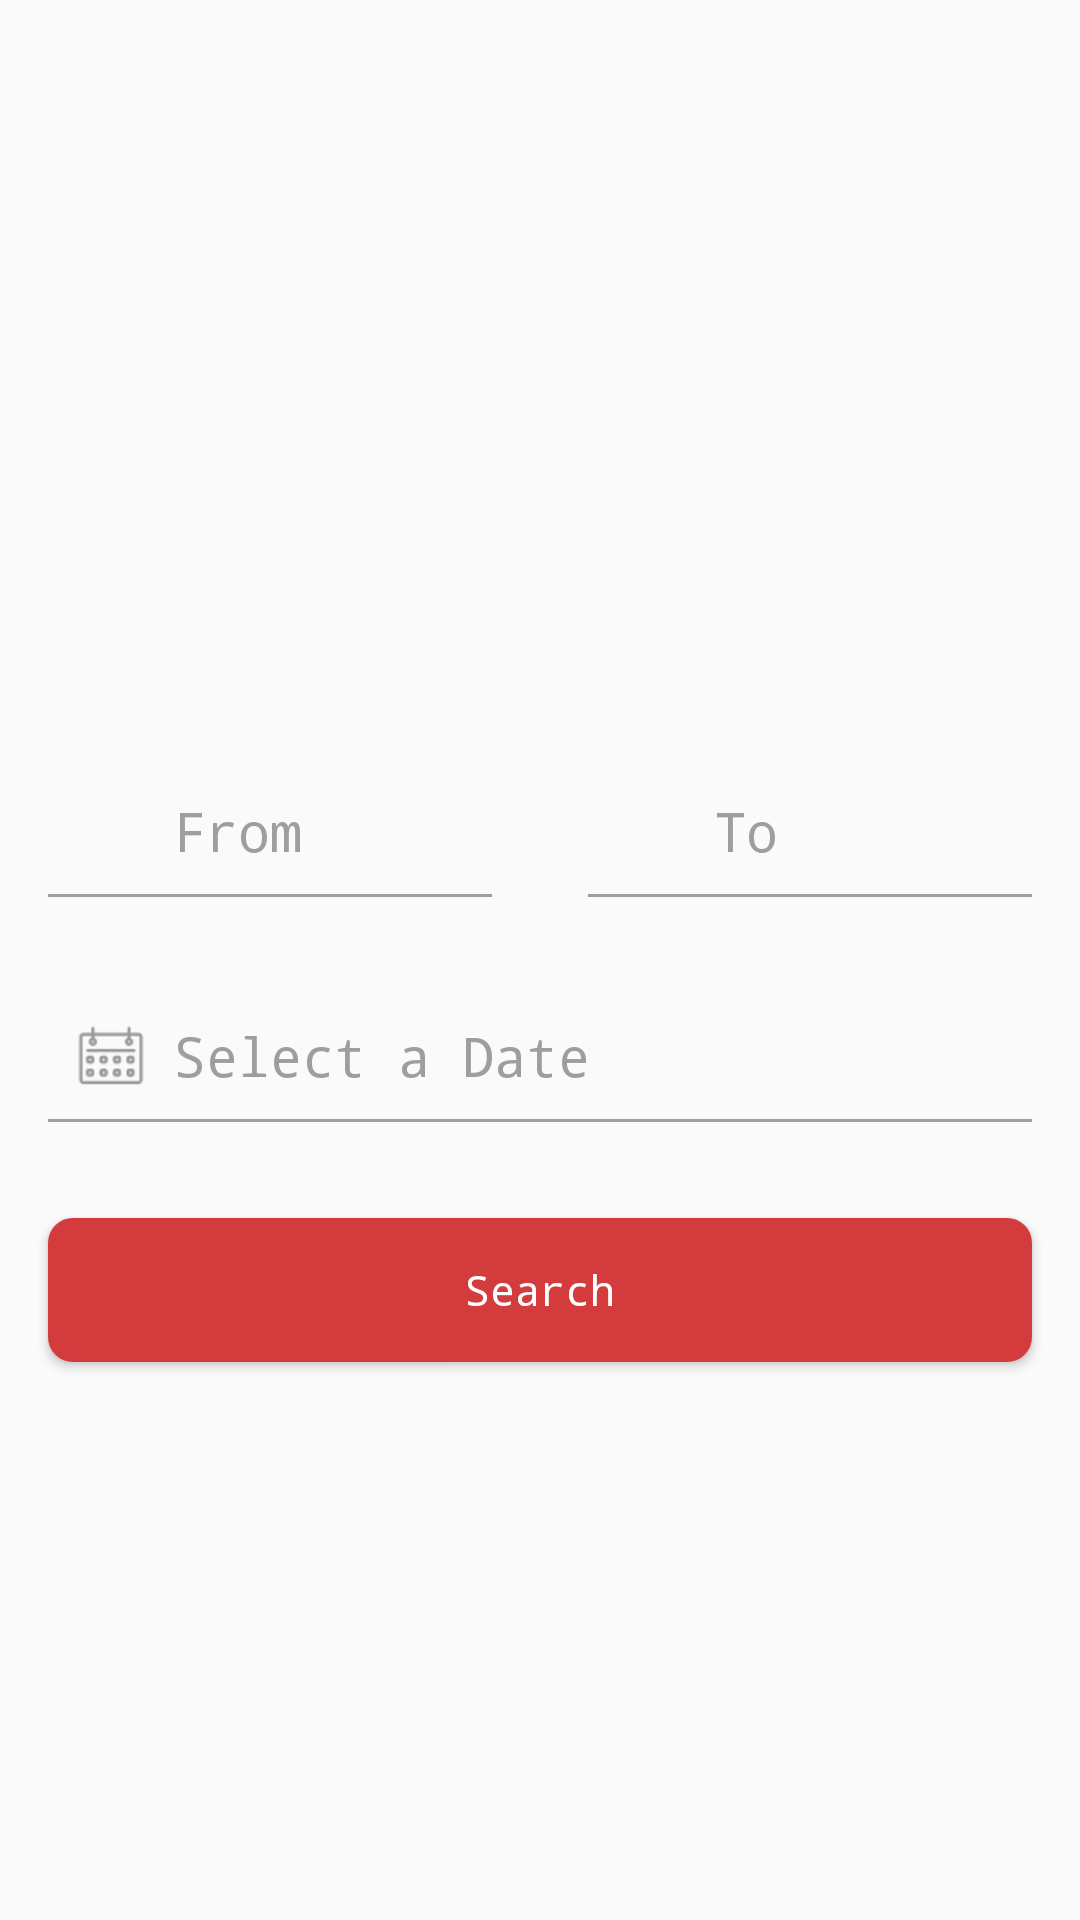

Icons on this 1080 x 1920 Android screen, each with its box as (x1, y1, x2, y2):
calender: (79, 1026, 143, 1084)
